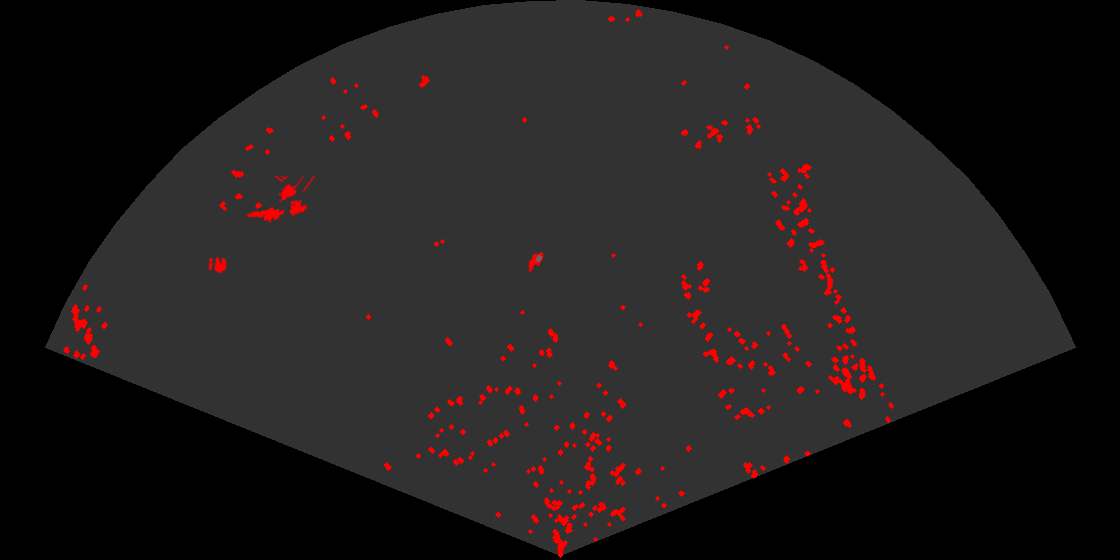AUV: (527, 250, 545, 274)
ball: (207, 255, 228, 275)
cage: (273, 176, 317, 217)
frogman: (245, 205, 284, 225)
